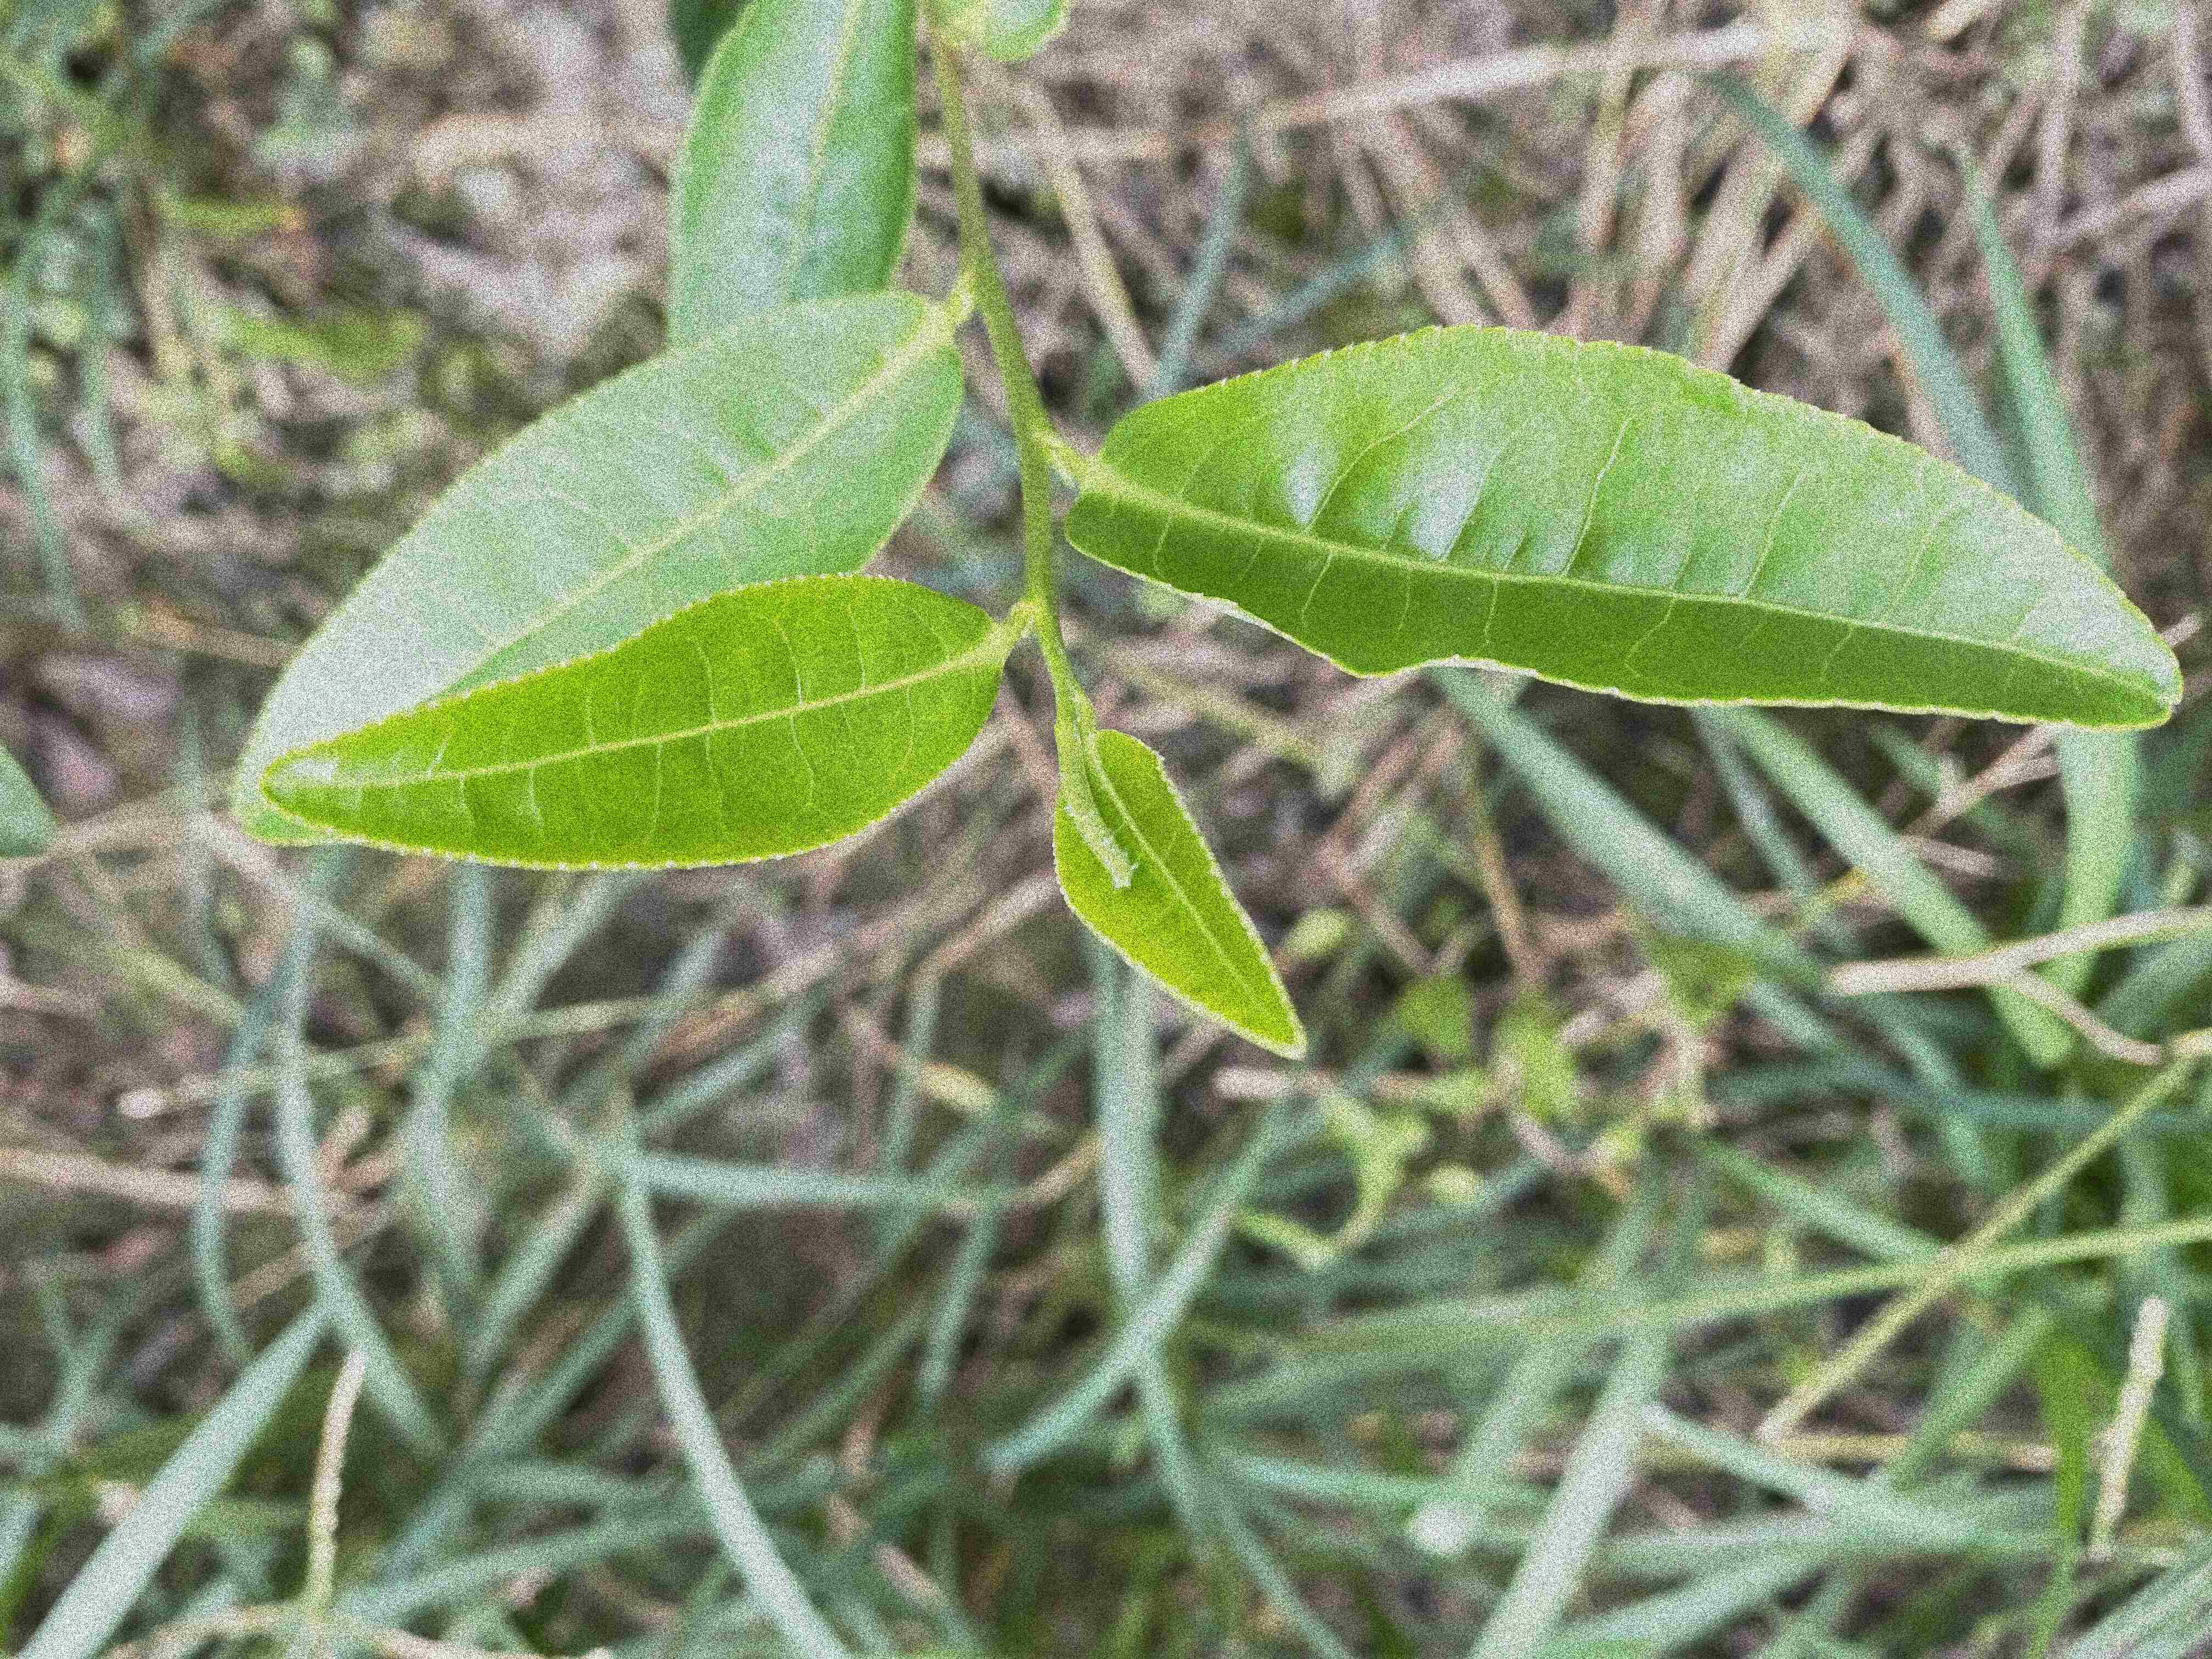healthy: (1061, 315, 2188, 732), (235, 288, 963, 850), (258, 575, 1008, 875), (1052, 730, 1306, 1056)
